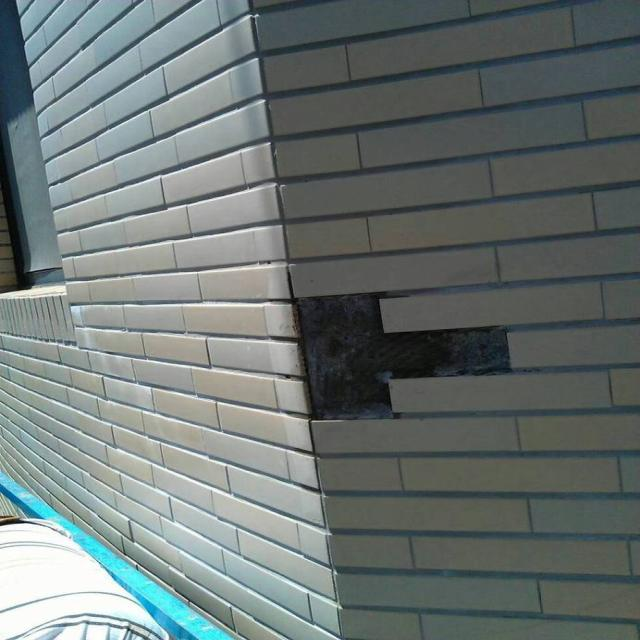tile: (296, 294, 511, 417)
